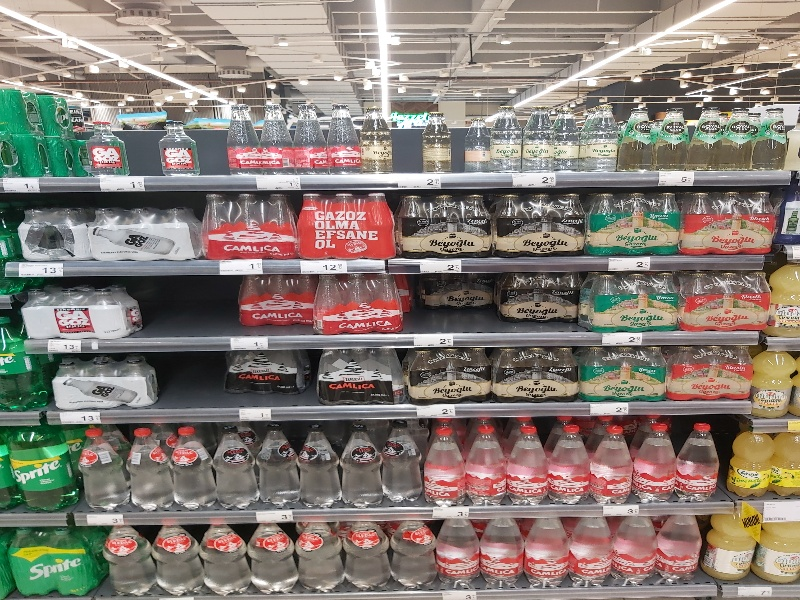urun1: (80, 202, 195, 266), (308, 342, 405, 404), (8, 528, 95, 595), (677, 270, 776, 327), (52, 357, 162, 407), (404, 340, 495, 400), (578, 345, 669, 405), (664, 338, 755, 398), (649, 508, 703, 585), (704, 511, 758, 588), (15, 200, 85, 258), (727, 426, 779, 498), (198, 520, 249, 591), (293, 518, 344, 589), (568, 511, 619, 582), (299, 422, 342, 506), (381, 420, 424, 504), (466, 420, 509, 504), (634, 416, 677, 500), (219, 104, 258, 174), (251, 100, 290, 170), (317, 99, 356, 169), (354, 101, 393, 171), (413, 105, 452, 175), (652, 101, 687, 174), (521, 101, 555, 172), (548, 98, 582, 169), (490, 103, 523, 173), (193, 189, 228, 255), (259, 192, 294, 258), (293, 187, 328, 253), (355, 186, 390, 252), (395, 192, 430, 258), (421, 190, 456, 256), (490, 190, 525, 256), (586, 187, 621, 253), (648, 183, 683, 249), (682, 186, 717, 252), (743, 183, 778, 249)
urun2: (21, 283, 147, 336), (1, 420, 73, 511), (590, 271, 685, 336), (491, 338, 582, 398), (492, 273, 590, 322), (67, 427, 123, 511), (97, 522, 150, 600), (253, 423, 297, 507), (242, 518, 294, 589), (748, 343, 800, 413), (340, 516, 391, 587), (388, 513, 439, 584), (431, 513, 482, 584), (478, 511, 529, 582), (521, 513, 572, 584), (126, 429, 169, 513), (166, 423, 209, 507), (207, 424, 250, 508), (335, 424, 378, 508), (424, 418, 467, 502), (506, 422, 549, 506), (542, 419, 585, 503), (592, 419, 635, 503), (676, 417, 719, 501), (150, 521, 195, 595), (611, 514, 654, 583), (620, 91, 656, 170), (689, 98, 729, 168), (585, 93, 619, 175), (286, 99, 325, 169), (79, 117, 126, 175), (153, 117, 200, 175), (758, 101, 799, 165), (229, 189, 264, 255), (323, 187, 358, 253), (456, 185, 491, 251), (522, 185, 557, 251), (547, 187, 582, 253), (615, 187, 650, 253), (713, 181, 748, 247), (723, 98, 754, 165), (310, 272, 343, 331), (338, 272, 371, 331), (371, 271, 404, 330), (461, 113, 494, 170)
